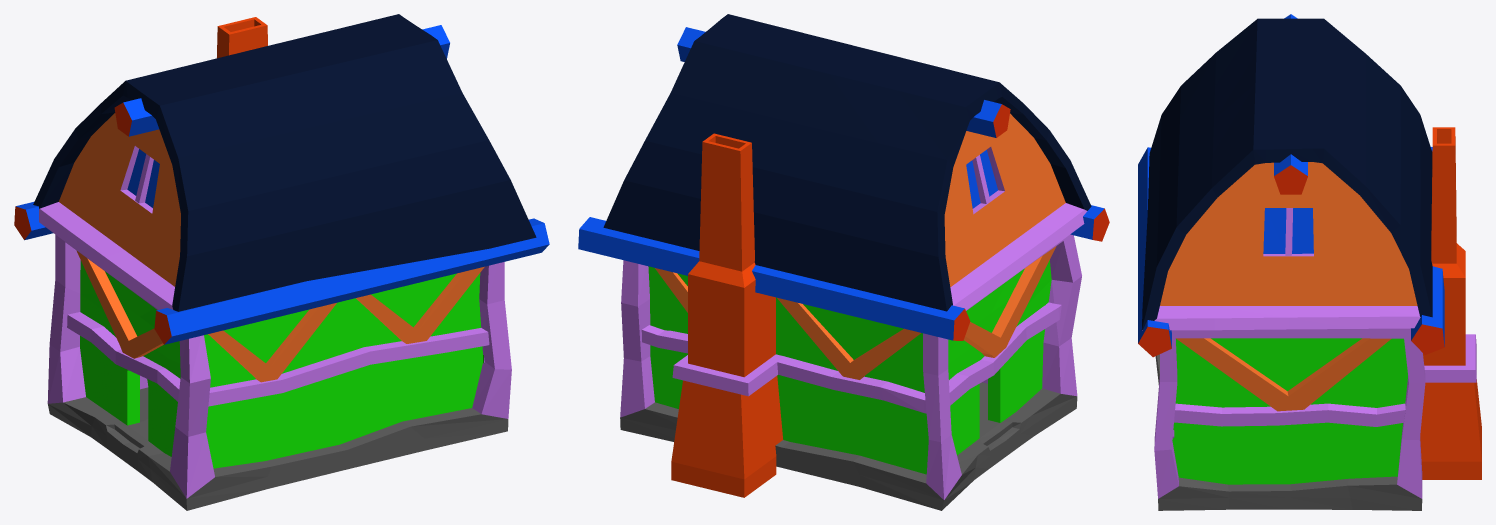
The model's file is Inn01.gltf.
The picture shows the model from 3 angles, left to right: view 1: azimuth 30°, elevation 25°; view 2: azimuth 150°, elevation 25°; view 3: azimuth 270°, elevation 25°; orthographic projection. The views are drawn at different scales.
Parts seen in each view (by area): view 1: Cube.003, Cylinder.002, Cube.002, Cube.005, Cube.006, Cube.004, Cylinder, Cylinder.001; view 2: Cube.003, Cube.002, Cylinder.001, Cube.007, Cube.004, Cylinder, Cylinder.002, Cube.008; view 3: Cube.003, Cube.002, Cube, Cylinder.002, Cylinder.001, Cylinder.
Boxes of the visible parts, x1=… form: Cube.003: x1=33, y1=14, x2=536, y2=510; Cylinder.002: x1=154, y1=218, x2=549, y2=344; Cube.002: x1=67, y1=17, x2=489, y2=406; Cube.005: x1=208, y1=303, x2=336, y2=382; Cube.006: x1=356, y1=266, x2=484, y2=343; Cube.004: x1=76, y1=250, x2=163, y2=358; Cylinder: x1=114, y1=25, x2=449, y2=136; Cylinder.001: x1=14, y1=202, x2=53, y2=240; Cube.003: x1=603, y1=14, x2=1091, y2=510; Cube.002: x1=641, y1=133, x2=1061, y2=497; Cylinder.001: x1=578, y1=217, x2=970, y2=340; Cube.007: x1=777, y1=297, x2=920, y2=379; Cube.004: x1=964, y1=246, x2=1056, y2=357; Cylinder: x1=677, y1=27, x2=1010, y2=137; Cylinder.002: x1=1070, y1=205, x2=1109, y2=241; Cube.008: x1=655, y1=268, x2=687, y2=312; Cube.003: x1=1141, y1=18, x2=1432, y2=510; Cube.002: x1=1174, y1=127, x2=1481, y2=479; Cube: x1=1176, y1=338, x2=1391, y2=411; Cylinder.002: x1=1138, y1=147, x2=1171, y2=357; Cylinder.001: x1=1411, y1=147, x2=1444, y2=354; Cylinder: x1=1274, y1=14, x2=1307, y2=194.
Bounding box in the file's own units: 26.58 × 24.79 × 21.53.
